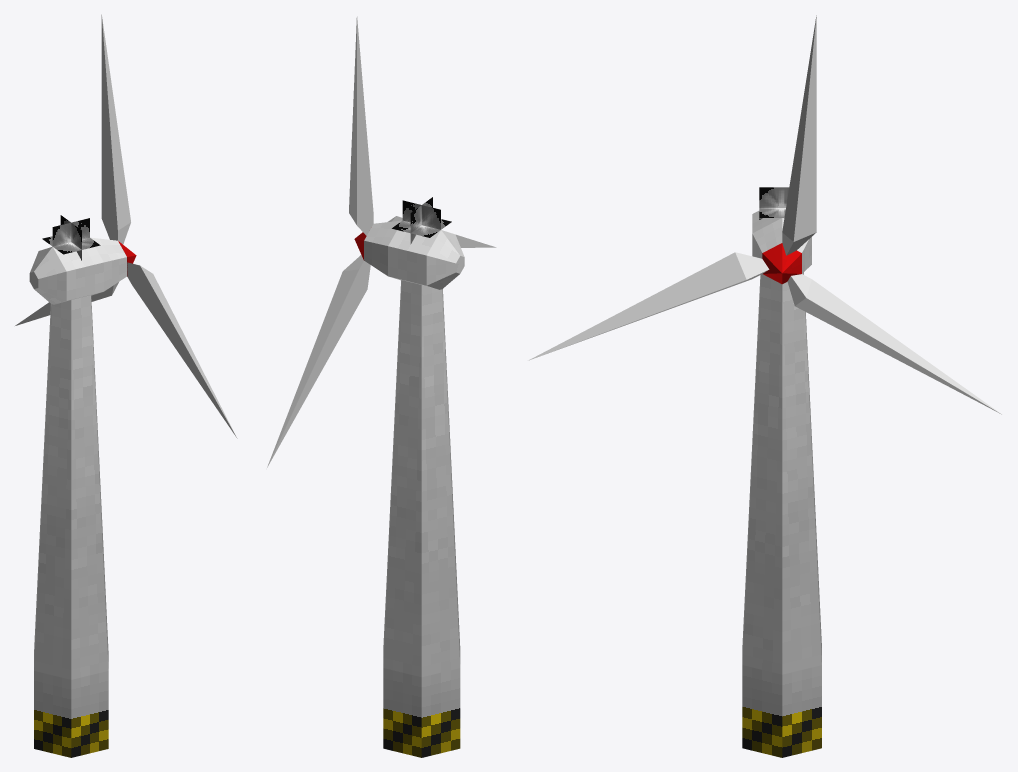
The model's file is WindTurbineMini.obj.
3 renders of one model, left to right at view 1: azimuth 30°, elevation 25°; view 2: azimuth 150°, elevation 25°; view 3: azimuth 270°, elevation 25°, orthographic. The views are drawn at different scales.
Parts seen in each view (by area): view 1: main, rot, halo; view 2: main, rot, halo; view 3: main, rot, halo.
Boxes of the visible parts, x1=… form: main: x1=29, y1=237, x2=126, y2=757; rot: x1=15, y1=14, x2=237, y2=438; halo: x1=42, y1=215, x2=100, y2=260; main: x1=364, y1=220, x2=464, y2=757; rot: x1=267, y1=16, x2=496, y2=467; halo: x1=392, y1=197, x2=451, y2=244; main: x1=742, y1=211, x2=821, y2=757; rot: x1=528, y1=15, x2=1002, y2=414; halo: x1=759, y1=187, x2=789, y2=219.
Bounding box in the file's own units: 0.6875 × 4.5 × 2.6.
2 materials, 2 textured.
